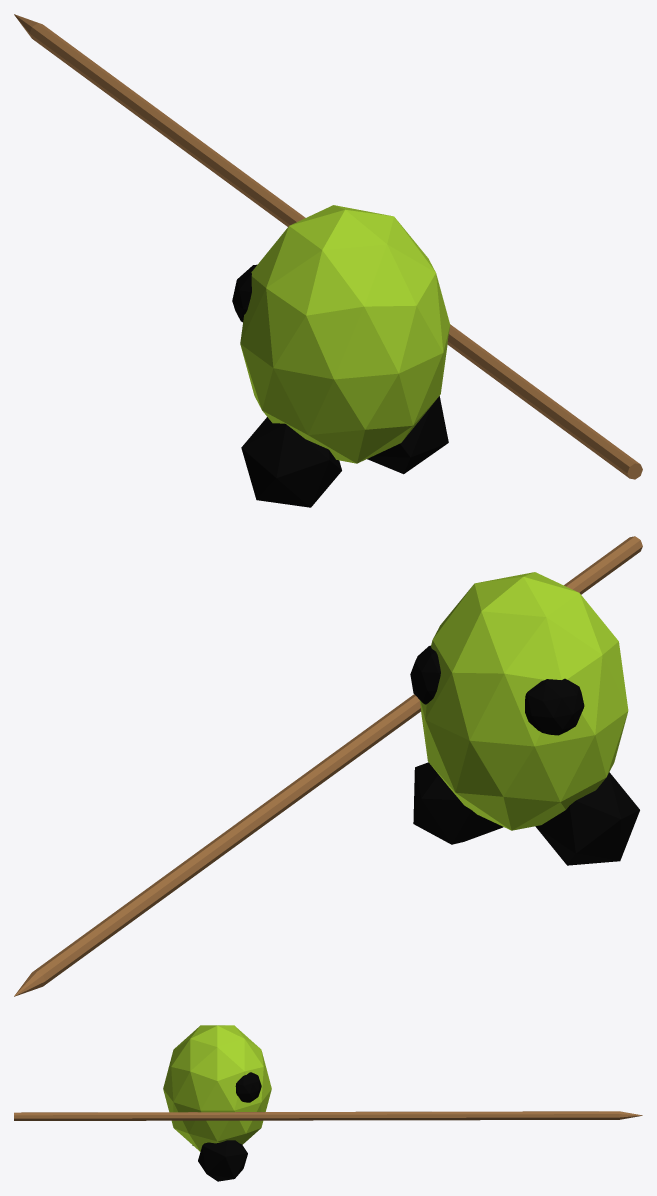
Rendered from walk.f0017.glb.
3 views of the same model, one above another, from view 1: azimuth 30°, elevation 25°; view 2: azimuth 150°, elevation 25°; view 3: azimuth 270°, elevation 25° (orthographic). The views are drawn at different scales.
Parts seen in each view (by area): view 1: Body.001; view 2: Body.001; view 3: Body.001.
Part boxes in pixels (box(x1,y1,x2,y2)): Body.001: box(14, 14, 642, 507); Body.001: box(14, 536, 642, 996); Body.001: box(14, 1025, 642, 1181).
Size of the model in its own units: 2.17 by 2.87 by 11.56.
1 material, 1 textured.
